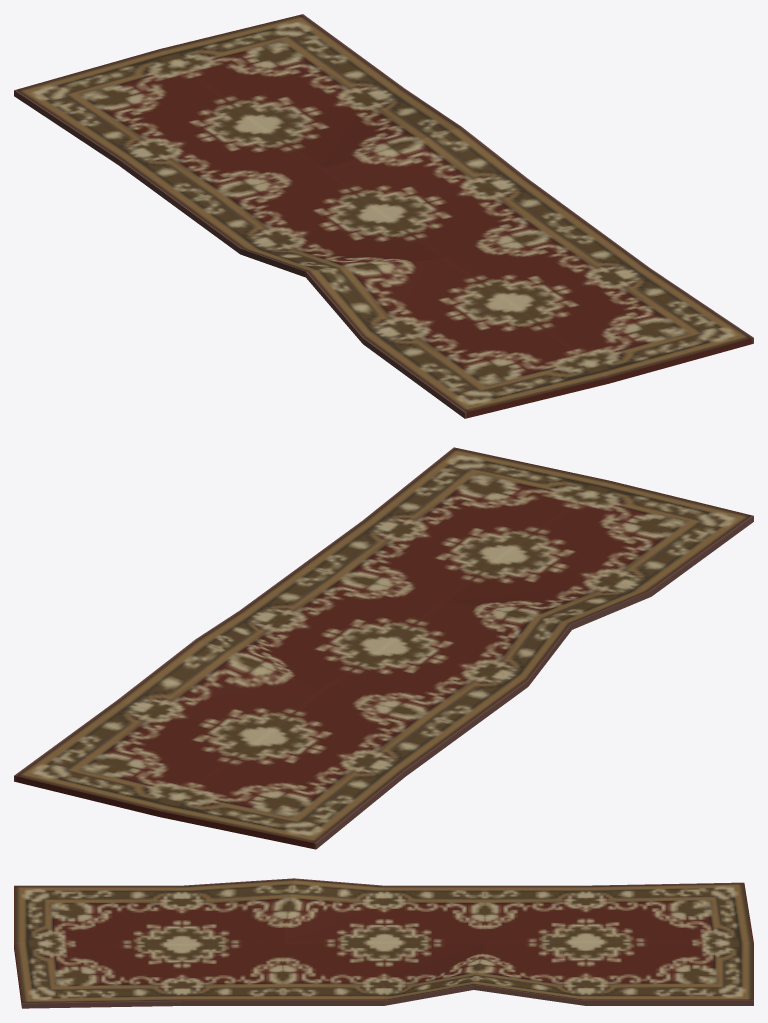
Rendered from SM_Prop_Rug_19.glb.
3 views of the same model, one above another, from view 1: azimuth 30°, elevation 25°; view 2: azimuth 150°, elevation 25°; view 3: azimuth 270°, elevation 25° (orthographic). The views are drawn at different scales.
Parts seen in each view (by area): view 1: SM_Prop_Rug_19; view 2: SM_Prop_Rug_19; view 3: SM_Prop_Rug_19.
Boxes of the visible parts, x1,y1,x2,y2 form: SM_Prop_Rug_19: (14,14,753,418); SM_Prop_Rug_19: (14,447,753,849); SM_Prop_Rug_19: (14,878,753,1008).
Bounding box in the file's own units: 2.18 × 0.1387 × 5.64.
Materials: 1 (1 with a texture image).
